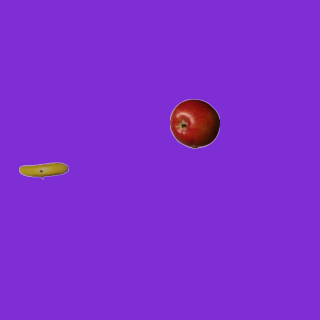Apple Braeburn: (169, 98, 219, 148)
Banana: (18, 145, 68, 195)
